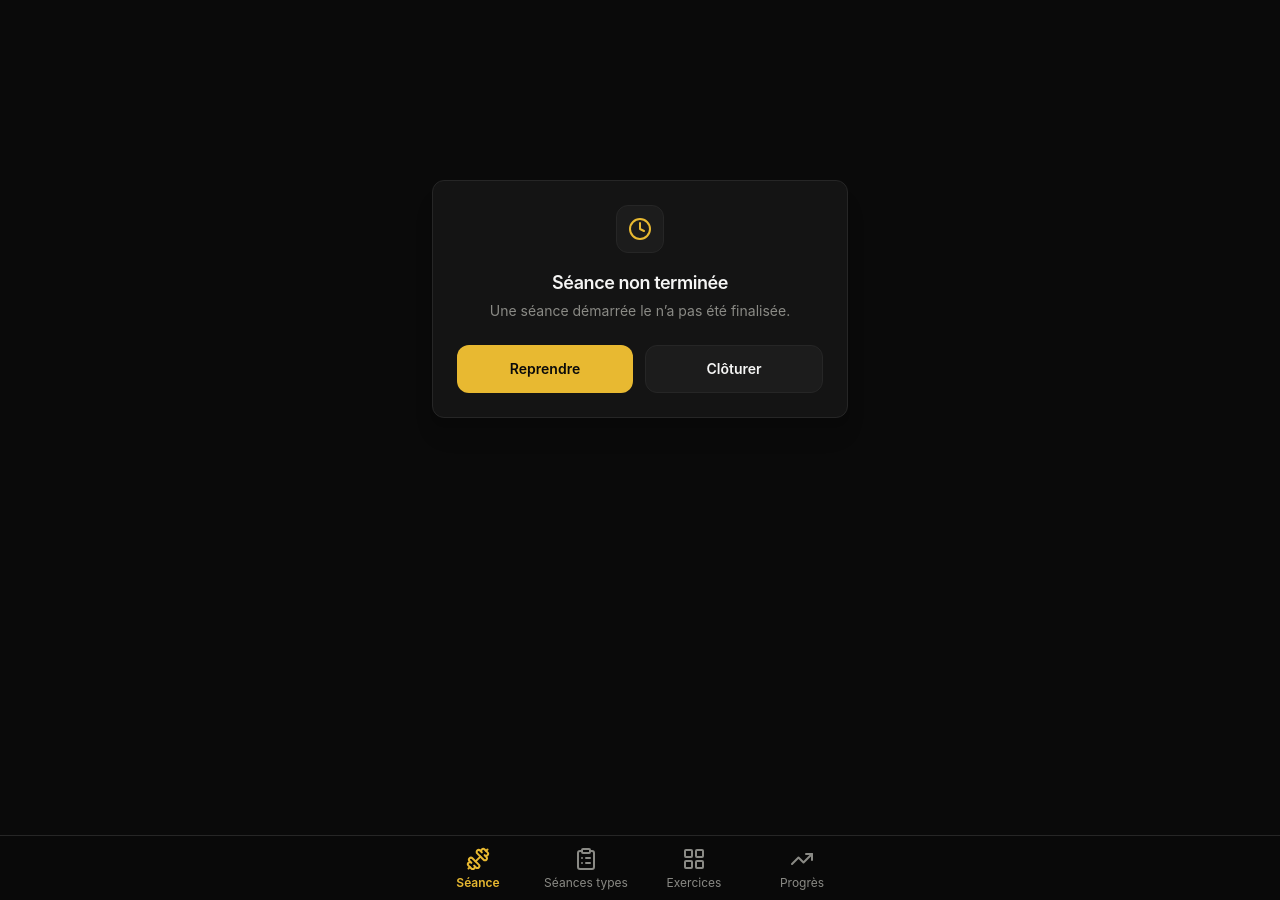
Test case: App navigation & TabBar › navigates to Séances types tab
Click the tab "Séances types".
click(586, 868)  # box [532, 838, 640, 898]
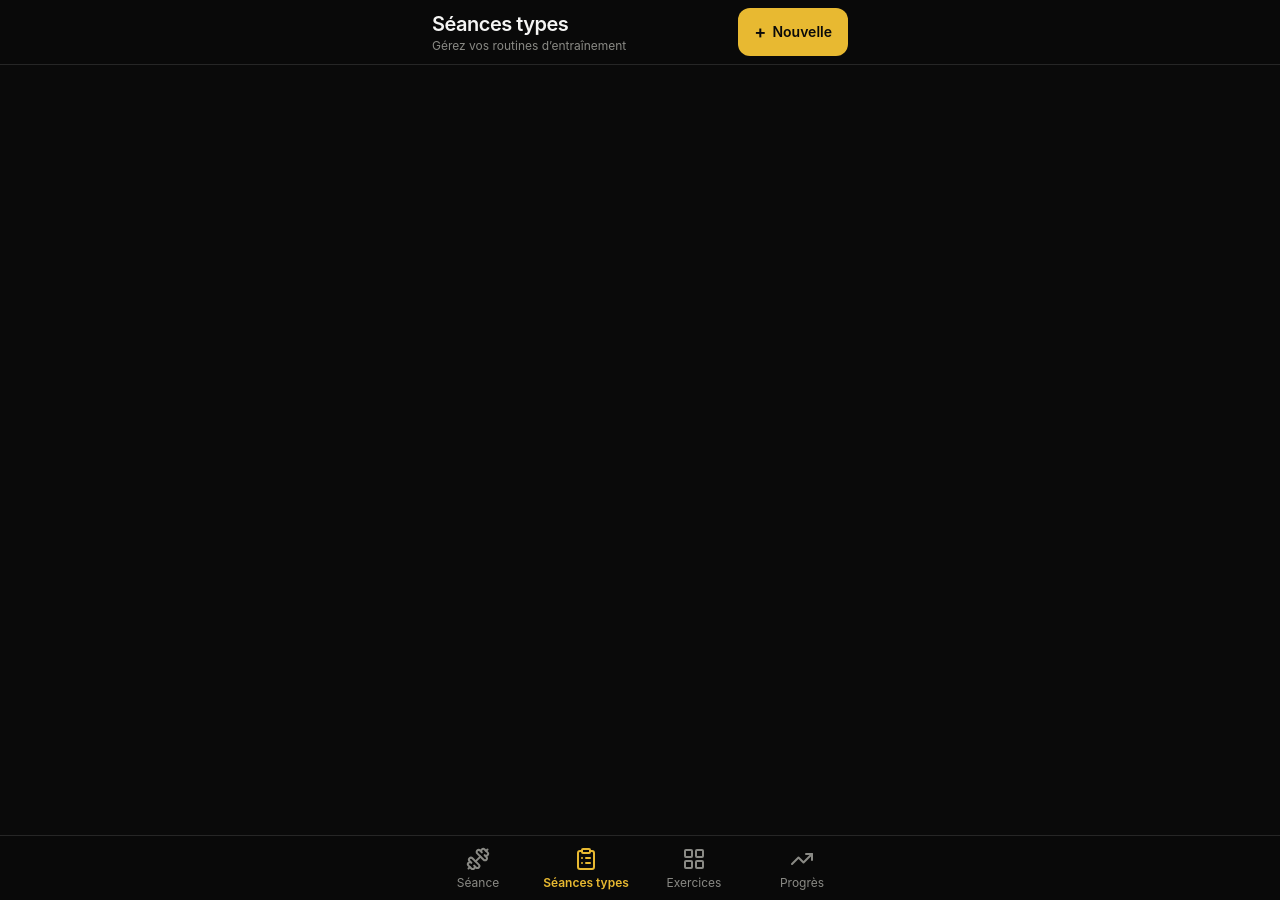
Expected: the heading "Séances types" is shown, [432, 12, 568, 36]
